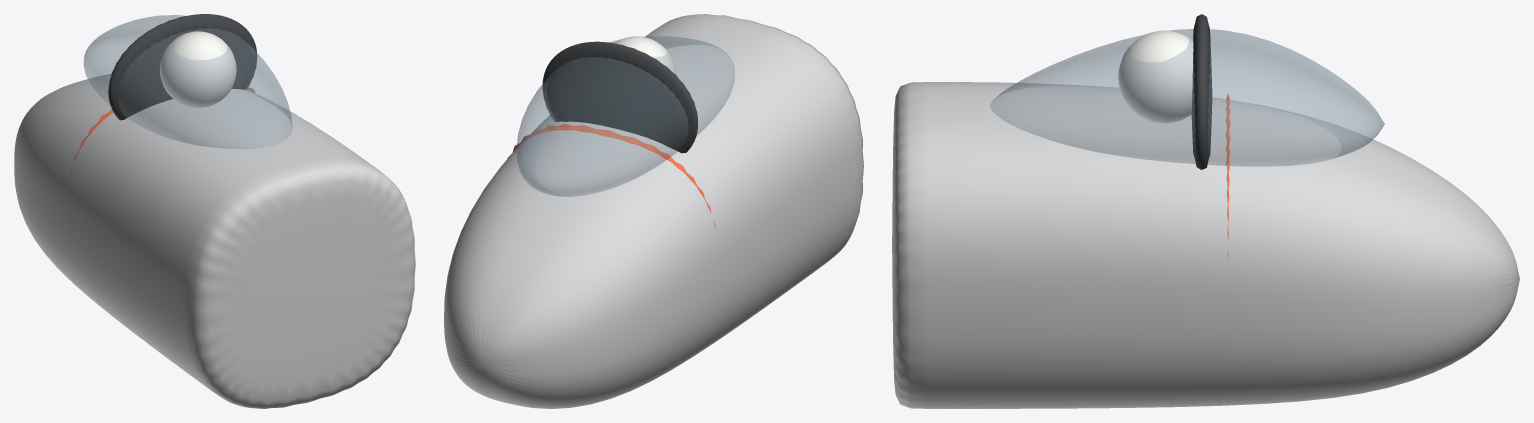
The model's file is cockpit.glb.
3 views of the same model, side by side, from view 1: azimuth 30°, elevation 25°; view 2: azimuth 150°, elevation 25°; view 3: azimuth 270°, elevation 25° (orthographic). The views are drawn at different scales.
Visible parts, largest first — view 1: CockpitBody, Canopy, CanopyFrame, Helmet; view 2: CockpitBody, Canopy, CanopyFrame, Stripe, Helmet; view 3: CockpitBody, Canopy, Helmet, CanopyFrame.
Part boxes in pixels (box(x1,y1,x2,y2)): CockpitBody: box(14, 74, 415, 408); Canopy: box(83, 15, 292, 148); CanopyFrame: box(108, 14, 257, 120); Helmet: box(159, 31, 236, 107); CockpitBody: box(444, 14, 863, 408); Canopy: box(516, 36, 735, 196); CanopyFrame: box(542, 41, 698, 153); Stripe: box(507, 123, 715, 227); Helmet: box(614, 36, 676, 75); CockpitBody: box(892, 82, 1519, 408); Canopy: box(990, 29, 1384, 166); Helmet: box(1118, 30, 1193, 123); CanopyFrame: box(1191, 14, 1212, 169).
Bounding box in the file's own units: 0.9968 × 1.28 × 2.03.
